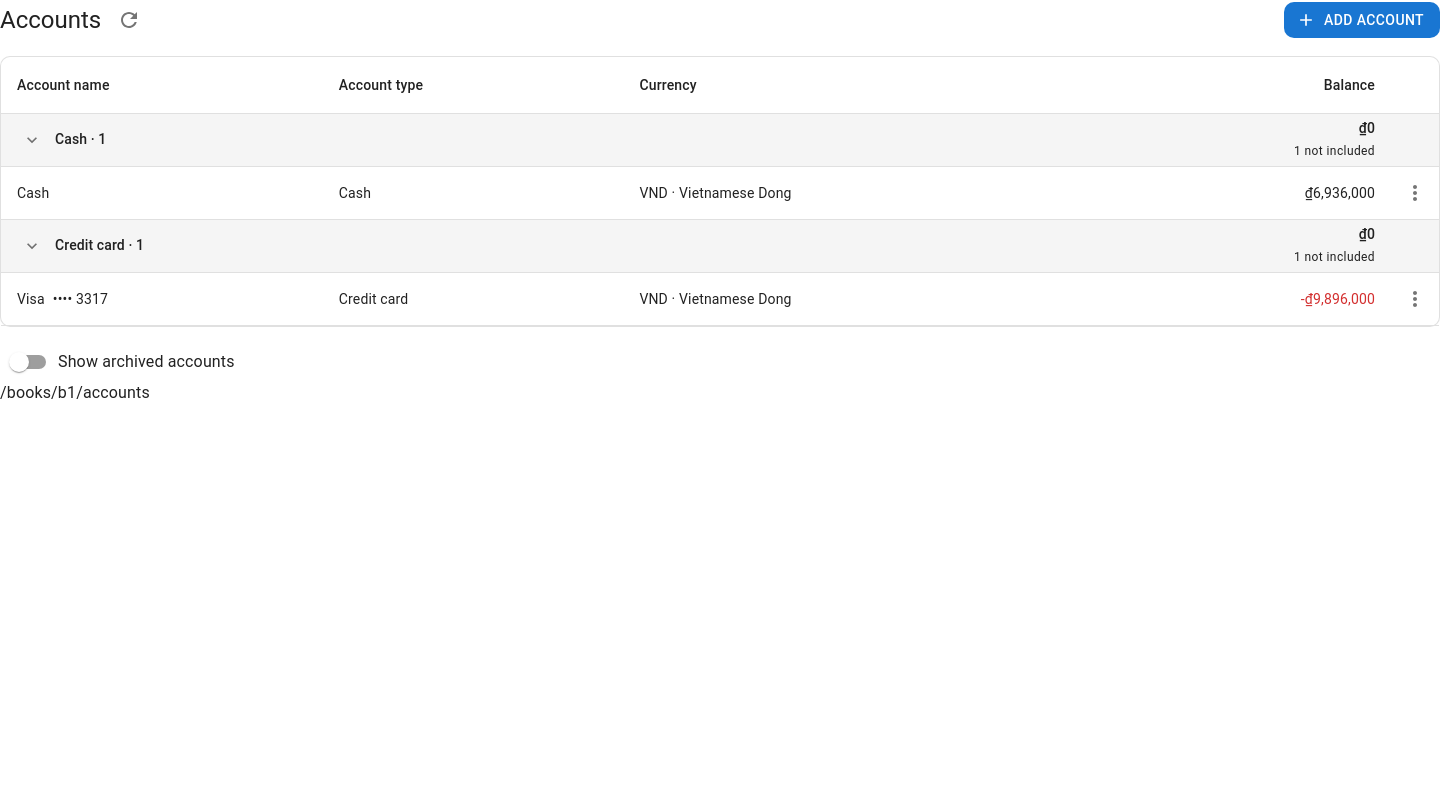
account details (waterflow#23) › opens from the Accounts page, instead of jumping to the transactions
Click the text "Visa". click: (31, 299)
box: [17,289,45,309]
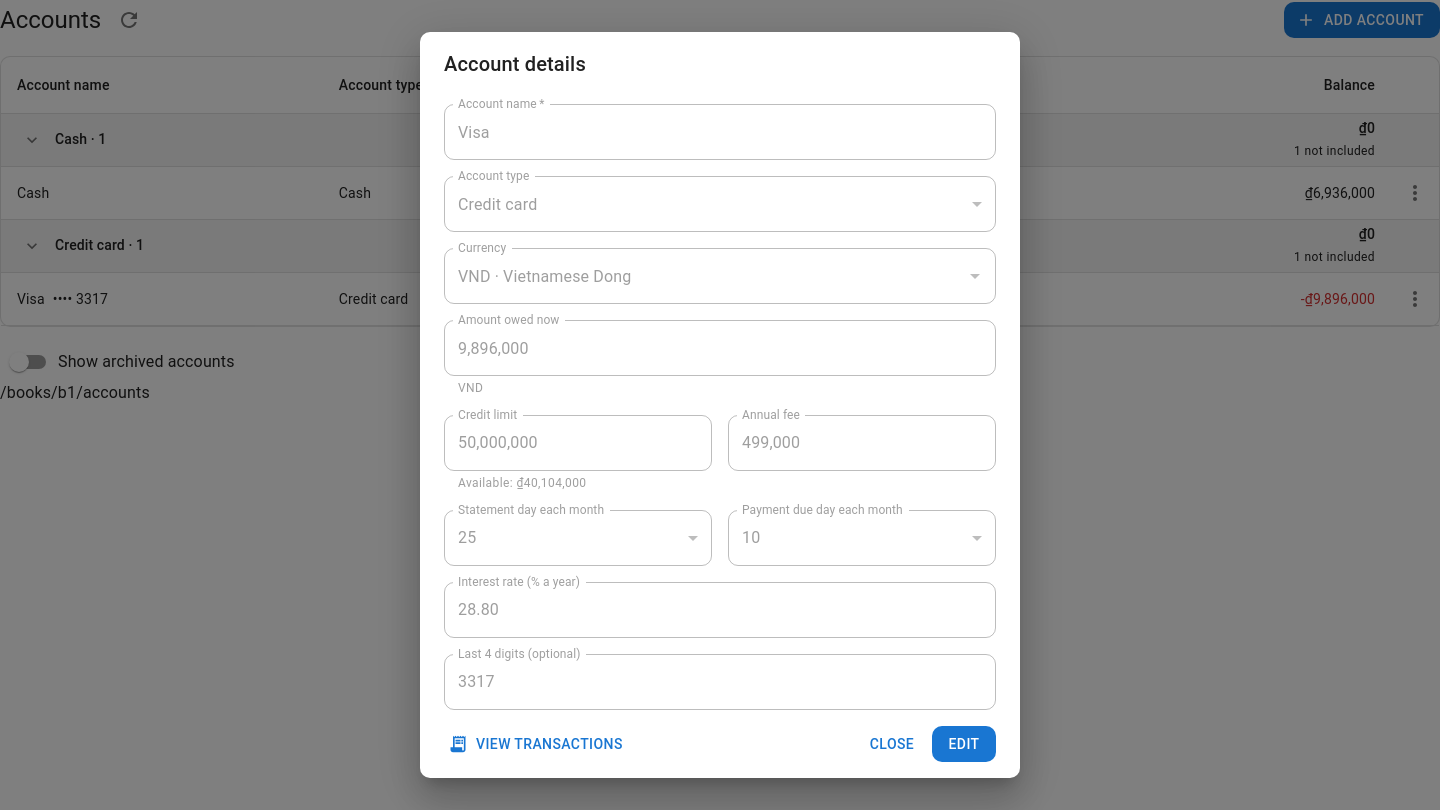
expect the heading "Account details" is shown: met, box [444,52,586,76]
Click the button "View transactions". click: (537, 744)
box: [444,726,631,762]
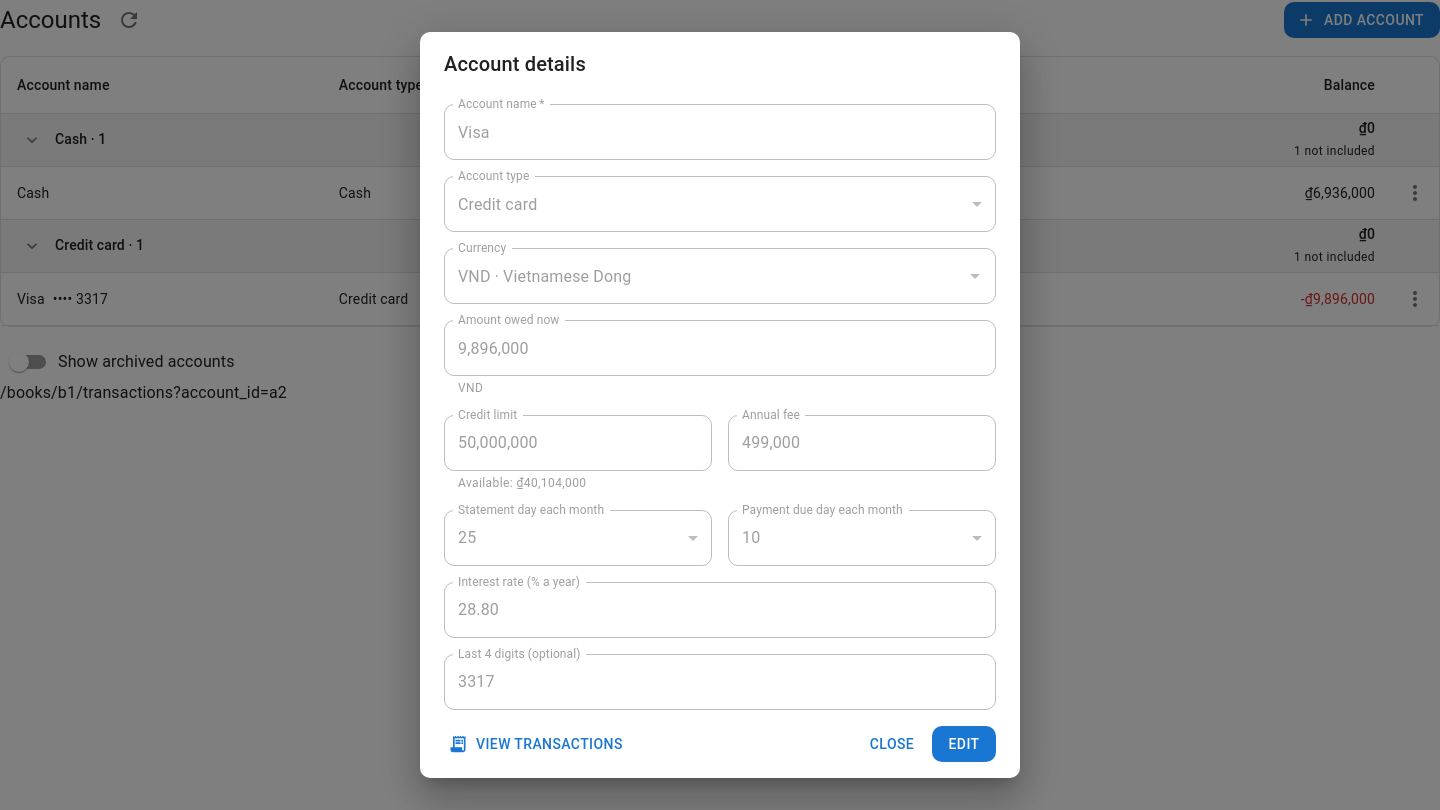
expect the text with test id "where" reads "/books/b1/transactions?account_id=a2": met, box [0,383,287,402]
